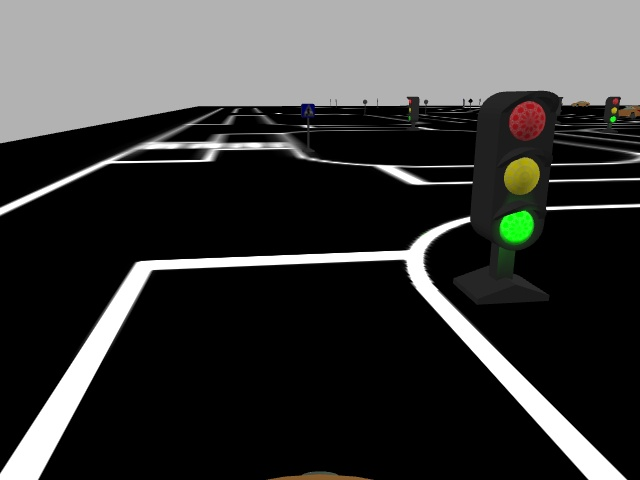green_light: (475, 87, 569, 255)
